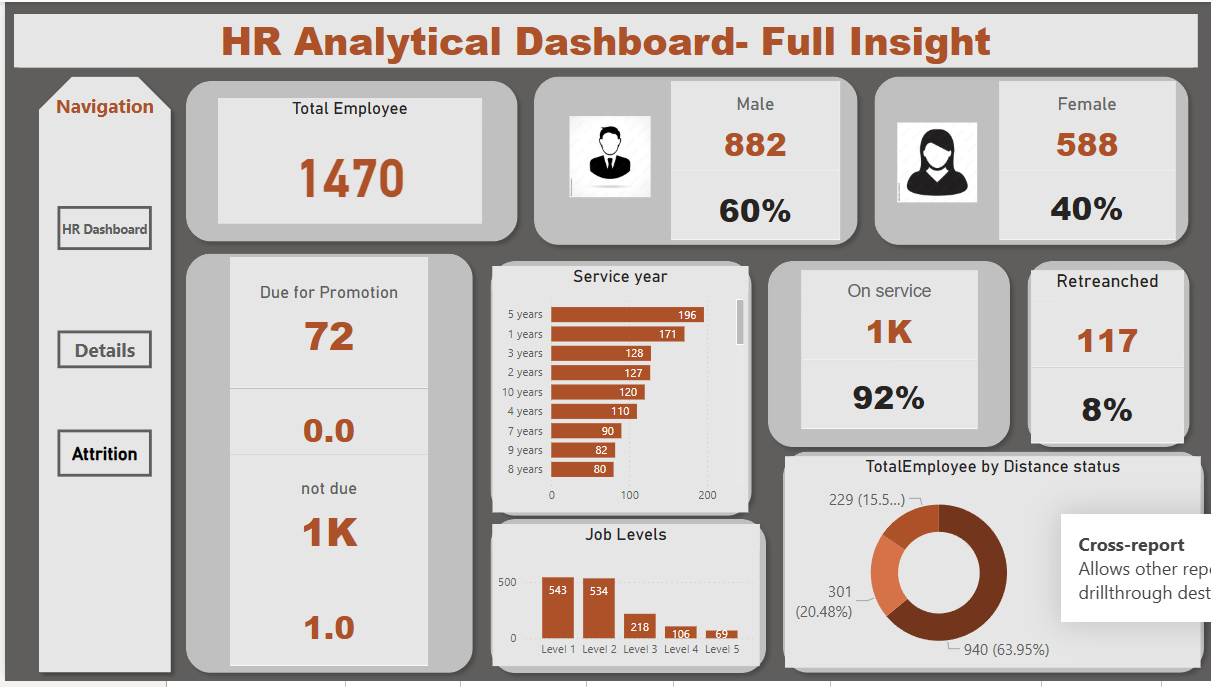

Layout of this report page (visuals, bound fields, positions):
{"tool":"powerbi","page":{"name":"HR Dashboard","canvas":[1280,720],"ordinal":0},"visuals":[{"type":"textbox","title":" HR Analytical Dashboard- Full Insight","box":[10,13.3,1255,56.7],"z":0},{"type":"shape","box":[183.1,74.6,369.5,188.1],"z":1000},{"type":"shape","box":[552.5,69.5,361,196.6],"z":2000},{"type":"shape","box":[913.6,69.5,350.8,196.6],"z":3000},{"type":"shape","box":[26.6,70.3,157.8,650],"z":4000},{"type":"shape","box":[183.1,257.6,322,462.7],"z":5000},{"type":"shape","box":[505.1,266.1,294.9,288.1],"z":6000},{"type":"shape","box":[505.1,539,310.2,181.4],"z":7000},{"type":"shape","box":[800,266.1,274.6,215.3],"z":8000},{"type":"shape","box":[1074.6,266.1,189.8,215.3],"z":9000},{"type":"shape","box":[815.3,467.8,464.4,252.5],"z":10000},{"type":"cardVisual","fields":{"Data":["All Measures.Male"]},"box":[706.8,84.7,179.7,94.9],"z":11000},{"type":"cardVisual","fields":{"Data":["All Measures.% Male"]},"box":[706.8,179.7,179.7,72.9],"z":12000},{"type":"cardVisual","fields":{"Data":["All Measures.Female"]},"box":[1054.2,84.7,186.4,94.9],"z":13000},{"type":"cardVisual","fields":{"Data":["All Measures.% Female"]},"box":[1054.2,179.7,186.4,72.9],"z":14000},{"type":"image","box":[593.2,105.1,96.6,118.6],"z":15000},{"type":"image","box":[937.3,122,103.4,94.9],"z":16000},{"type":"cardVisual","fields":{"Data":["All Measures.not due"]},"box":[239.1,479.7,210.1,134.8],"z":17000},{"type":"cardVisual","fields":{"Data":["All Measures.Due for Promotion"]},"box":[239,271.2,210.2,139],"z":18000},{"type":"cardVisual","fields":{"Data":["All Measures.% due for promotion"]},"box":[239,410.2,210.2,69.5],"z":19000},{"type":"cardVisual","fields":{"Data":["All Measures.% not due"]},"box":[239.1,614.5,210.1,89.9],"z":20000},{"type":"barChart","title":" Service year","fields":{"Category":["HR Analytics Data_techtip24.Service year"],"Y":["All Measures.Total employees"]},"box":[516.9,279.7,271.2,261],"z":21000},{"type":"columnChart","title":" Job Levels ","fields":{"Category":["HR Analytics Data_techtip24. Job Levels "],"Y":["All Measures.Total employees"]},"box":[516.9,554.2,283.1,150.8],"z":22000},{"type":"cardVisual","fields":{"Data":["All Measures.On service"]},"box":[844.1,284.7,186.4,94.9],"z":23000},{"type":"cardVisual","fields":{"Data":["All Measures.% On service"]},"box":[844.1,379.7,186.4,72.9],"z":24000},{"type":"cardVisual","title":"Retreanched","fields":{"Data":["All Measures.will be retreanched"]},"box":[1088.4,284.1,162.3,102.9],"z":25000},{"type":"cardVisual","fields":{"Data":["All Measures.%will be retreanched"]},"box":[1088.4,388.4,162.3,79.7],"z":26000},{"type":"donutChart","fields":{"Category":["HR Analytics Data_techtip24.Distance status "],"Y":["All Measures.Total employees"]},"box":[827.1,481.4,440.7,223.7],"z":27000},{"type":"actionButton","box":[55,348.3,100,40],"z":28000},{"type":"actionButton","box":[55,216.7,100,46.7],"z":29000},{"type":"actionButton","title":"Attrition","box":[55,453.3,100,50],"z":30000},{"type":"card","title":"Total Employee","fields":{"Values":["All Measures.Totalemployees"]},"box":[225.7,101.7,279.7,133.5],"z":31000}]}

Visuals, with their boxes in screenshot pixels (x1, y1, x2, y2), scaled from the page's 1280x720 canvas onto the 1211x687 screenshot:
" HR Analytical Dashboard- Full Insight" textbox: bbox(9, 13, 1197, 67)
shape: bbox(173, 71, 523, 251)
shape: bbox(523, 66, 864, 254)
shape: bbox(864, 66, 1196, 254)
shape: bbox(25, 67, 174, 686)
shape: bbox(173, 246, 478, 686)
shape: bbox(478, 254, 757, 529)
shape: bbox(478, 514, 771, 686)
shape: bbox(757, 254, 1017, 459)
shape: bbox(1017, 254, 1196, 459)
shape: bbox(771, 446, 1210, 686)
cardVisual - All Measures.Male: bbox(669, 81, 839, 171)
cardVisual - All Measures.% Male: bbox(669, 171, 839, 241)
cardVisual - All Measures.Female: bbox(997, 81, 1174, 171)
cardVisual - All Measures.% Female: bbox(997, 171, 1174, 241)
image: bbox(561, 100, 653, 213)
image: bbox(887, 116, 985, 207)
cardVisual - All Measures.not due: bbox(226, 458, 425, 586)
cardVisual - All Measures.Due for Promotion: bbox(226, 259, 425, 391)
cardVisual - All Measures.% due for promotion: bbox(226, 391, 425, 458)
cardVisual - All Measures.% not due: bbox(226, 586, 425, 672)
" Service year" barChart: bbox(489, 267, 746, 516)
" Job Levels " columnChart: bbox(489, 529, 757, 673)
cardVisual - All Measures.On service: bbox(799, 272, 975, 362)
cardVisual - All Measures.% On service: bbox(799, 362, 975, 432)
"Retreanched" cardVisual: bbox(1030, 271, 1183, 369)
cardVisual - All Measures.%will be retreanched: bbox(1030, 371, 1183, 447)
donutChart - HR Analytics Data_techtip24.Distance status  x All Measures.Total employees: bbox(783, 459, 1199, 673)
actionButton: bbox(52, 332, 147, 371)
actionButton: bbox(52, 207, 147, 251)
"Attrition" actionButton: bbox(52, 433, 147, 480)
"Total Employee" card: bbox(214, 97, 478, 224)
